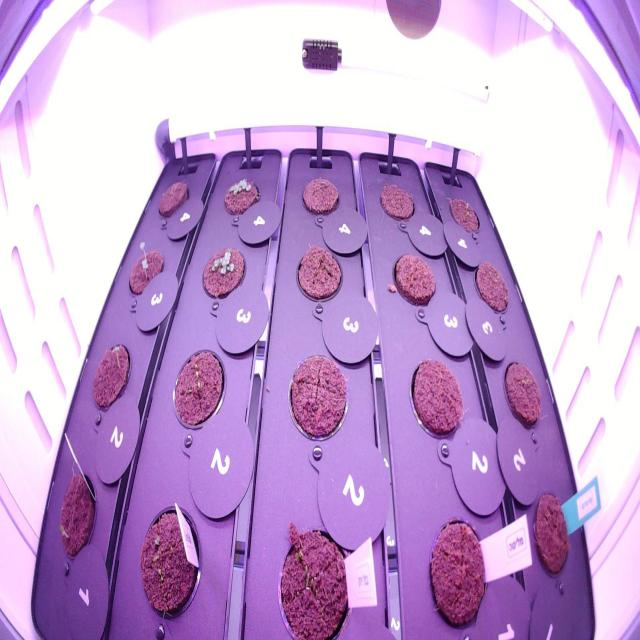germination: (271, 512, 361, 640), (131, 498, 211, 629), (168, 340, 229, 447), (49, 464, 103, 574), (86, 337, 136, 426), (196, 236, 250, 311), (121, 234, 168, 314), (219, 168, 264, 224), (443, 183, 482, 241)
pod: (423, 511, 494, 638), (282, 342, 352, 448), (405, 350, 467, 456), (526, 476, 573, 589), (497, 346, 548, 437), (290, 234, 346, 310), (387, 241, 441, 318), (470, 251, 512, 324), (295, 164, 344, 223), (374, 176, 420, 228), (151, 174, 192, 223)
